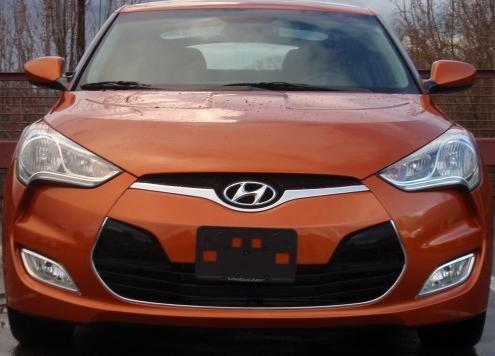front_view: (23, 117, 484, 325)
headlight: (361, 118, 486, 204)
